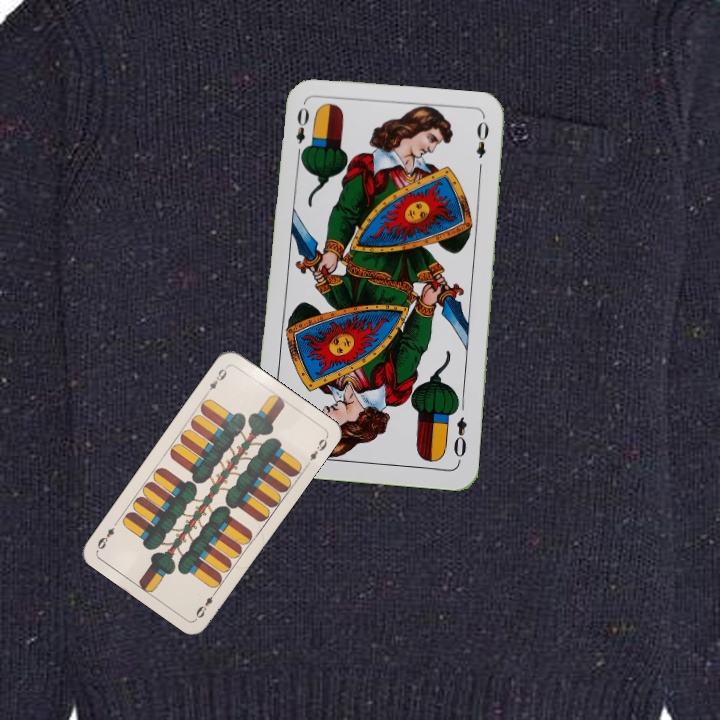E9: (192, 586, 220, 621), (205, 362, 230, 393)
EO: (291, 103, 312, 161), (450, 413, 470, 465)
